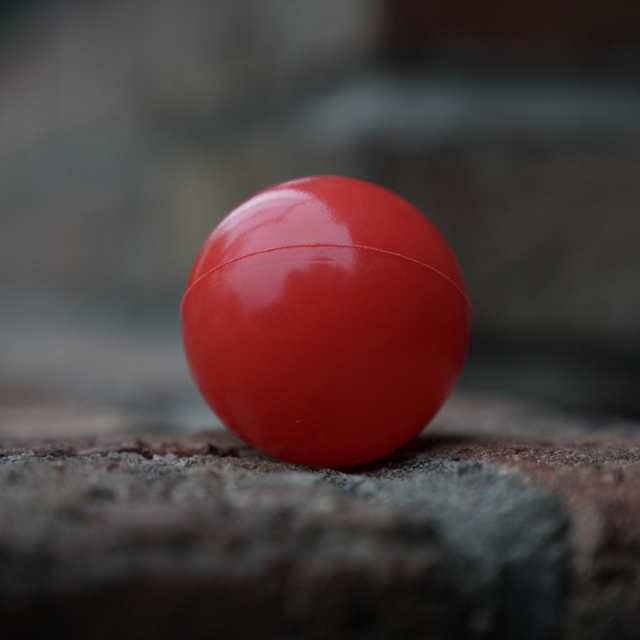Ball: (180, 173, 474, 471)
